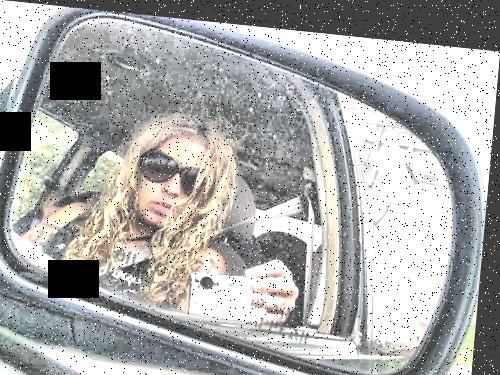seatbelt: (99, 175, 342, 300)
